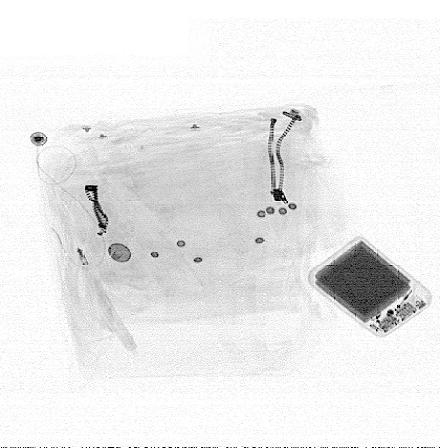Powerbank: (307, 237, 432, 339)
